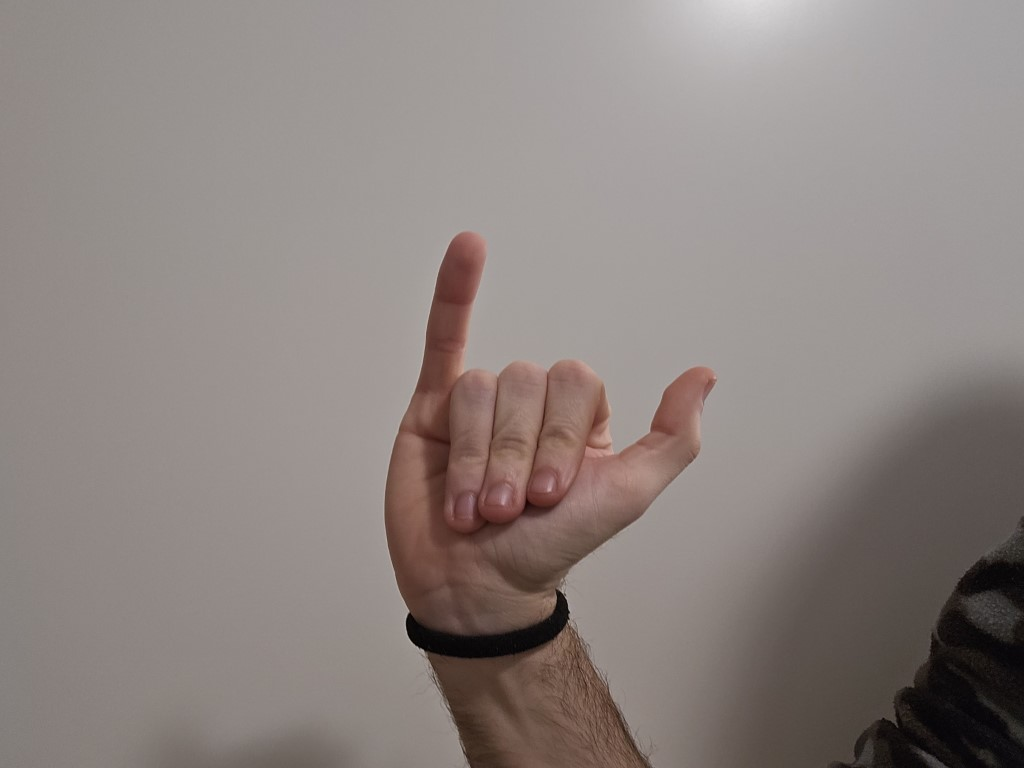y: (341, 219, 734, 603)
